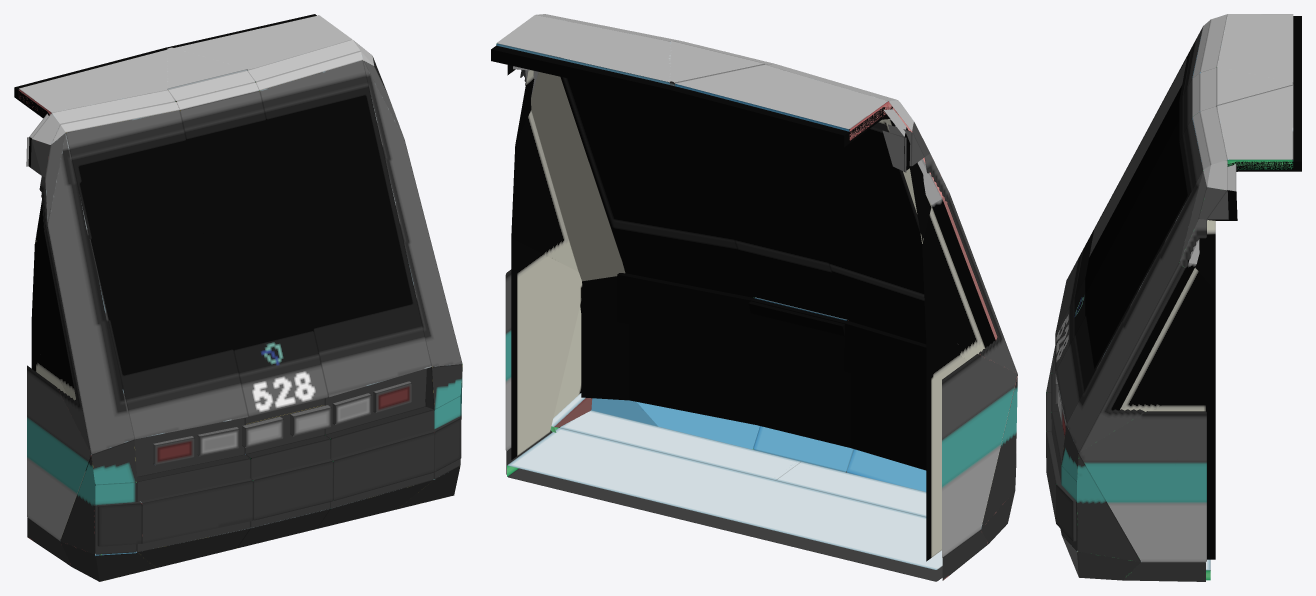
Rendered from mp05_fcav_4.obj.
The picture shows the model from 3 angles, left to right: view 1: azimuth 30°, elevation 25°; view 2: azimuth 150°, elevation 25°; view 3: azimuth 270°, elevation 25°; orthographic projection. The views are drawn at different scales.
Parts seen in each view (by area): view 1: tete, tete_int; view 2: tete_int, tete; view 3: tete, tete_int.
Boxes of the visible parts, x1,y1,x2,y2 form: tete: (18,15,462,581); tete_int: (14,14,434,540); tete_int: (491,45,1009,561); tete: (496,14,1017,581); tete: (1046,14,1293,581); tete_int: (1085,16,1301,559).
Bounding box in the file's own units: 2.44 × 2.58 × 1.47.
Materials: 3 (3 with a texture image).
